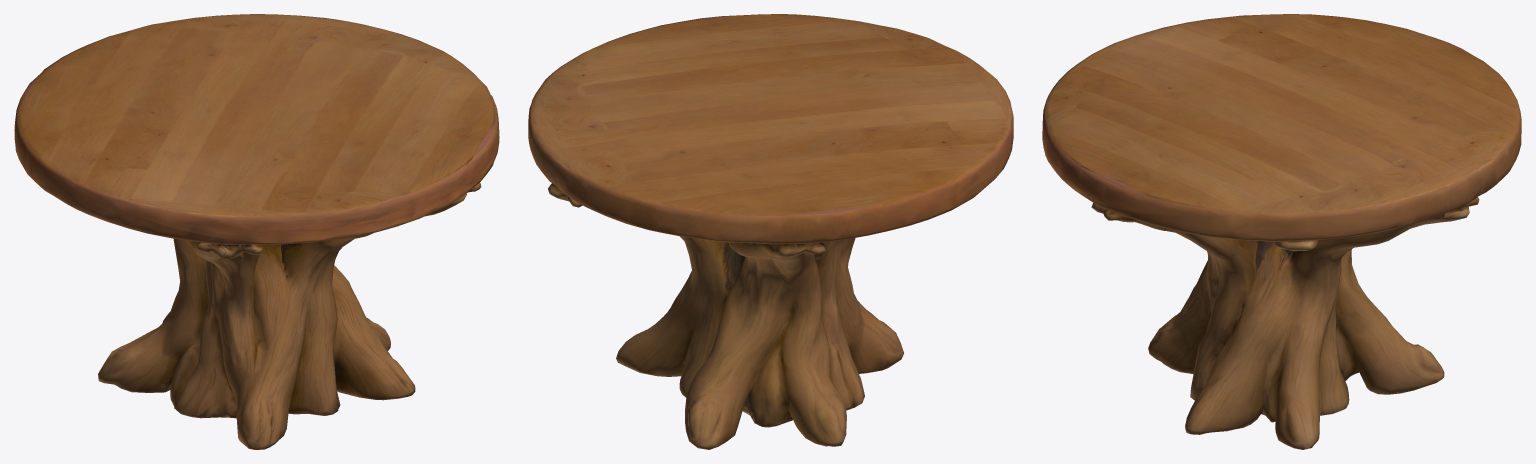
File: Meshy_AI_TREE_TABLE_0301170710_texture.glb
The picture shows the model from 3 angles, left to right: view 1: azimuth 30°, elevation 25°; view 2: azimuth 150°, elevation 25°; view 3: azimuth 270°, elevation 25°; orthographic projection.
Bounding box in the file's own units: 2 × 1.29 × 2.01.
1 material, 1 textured.
